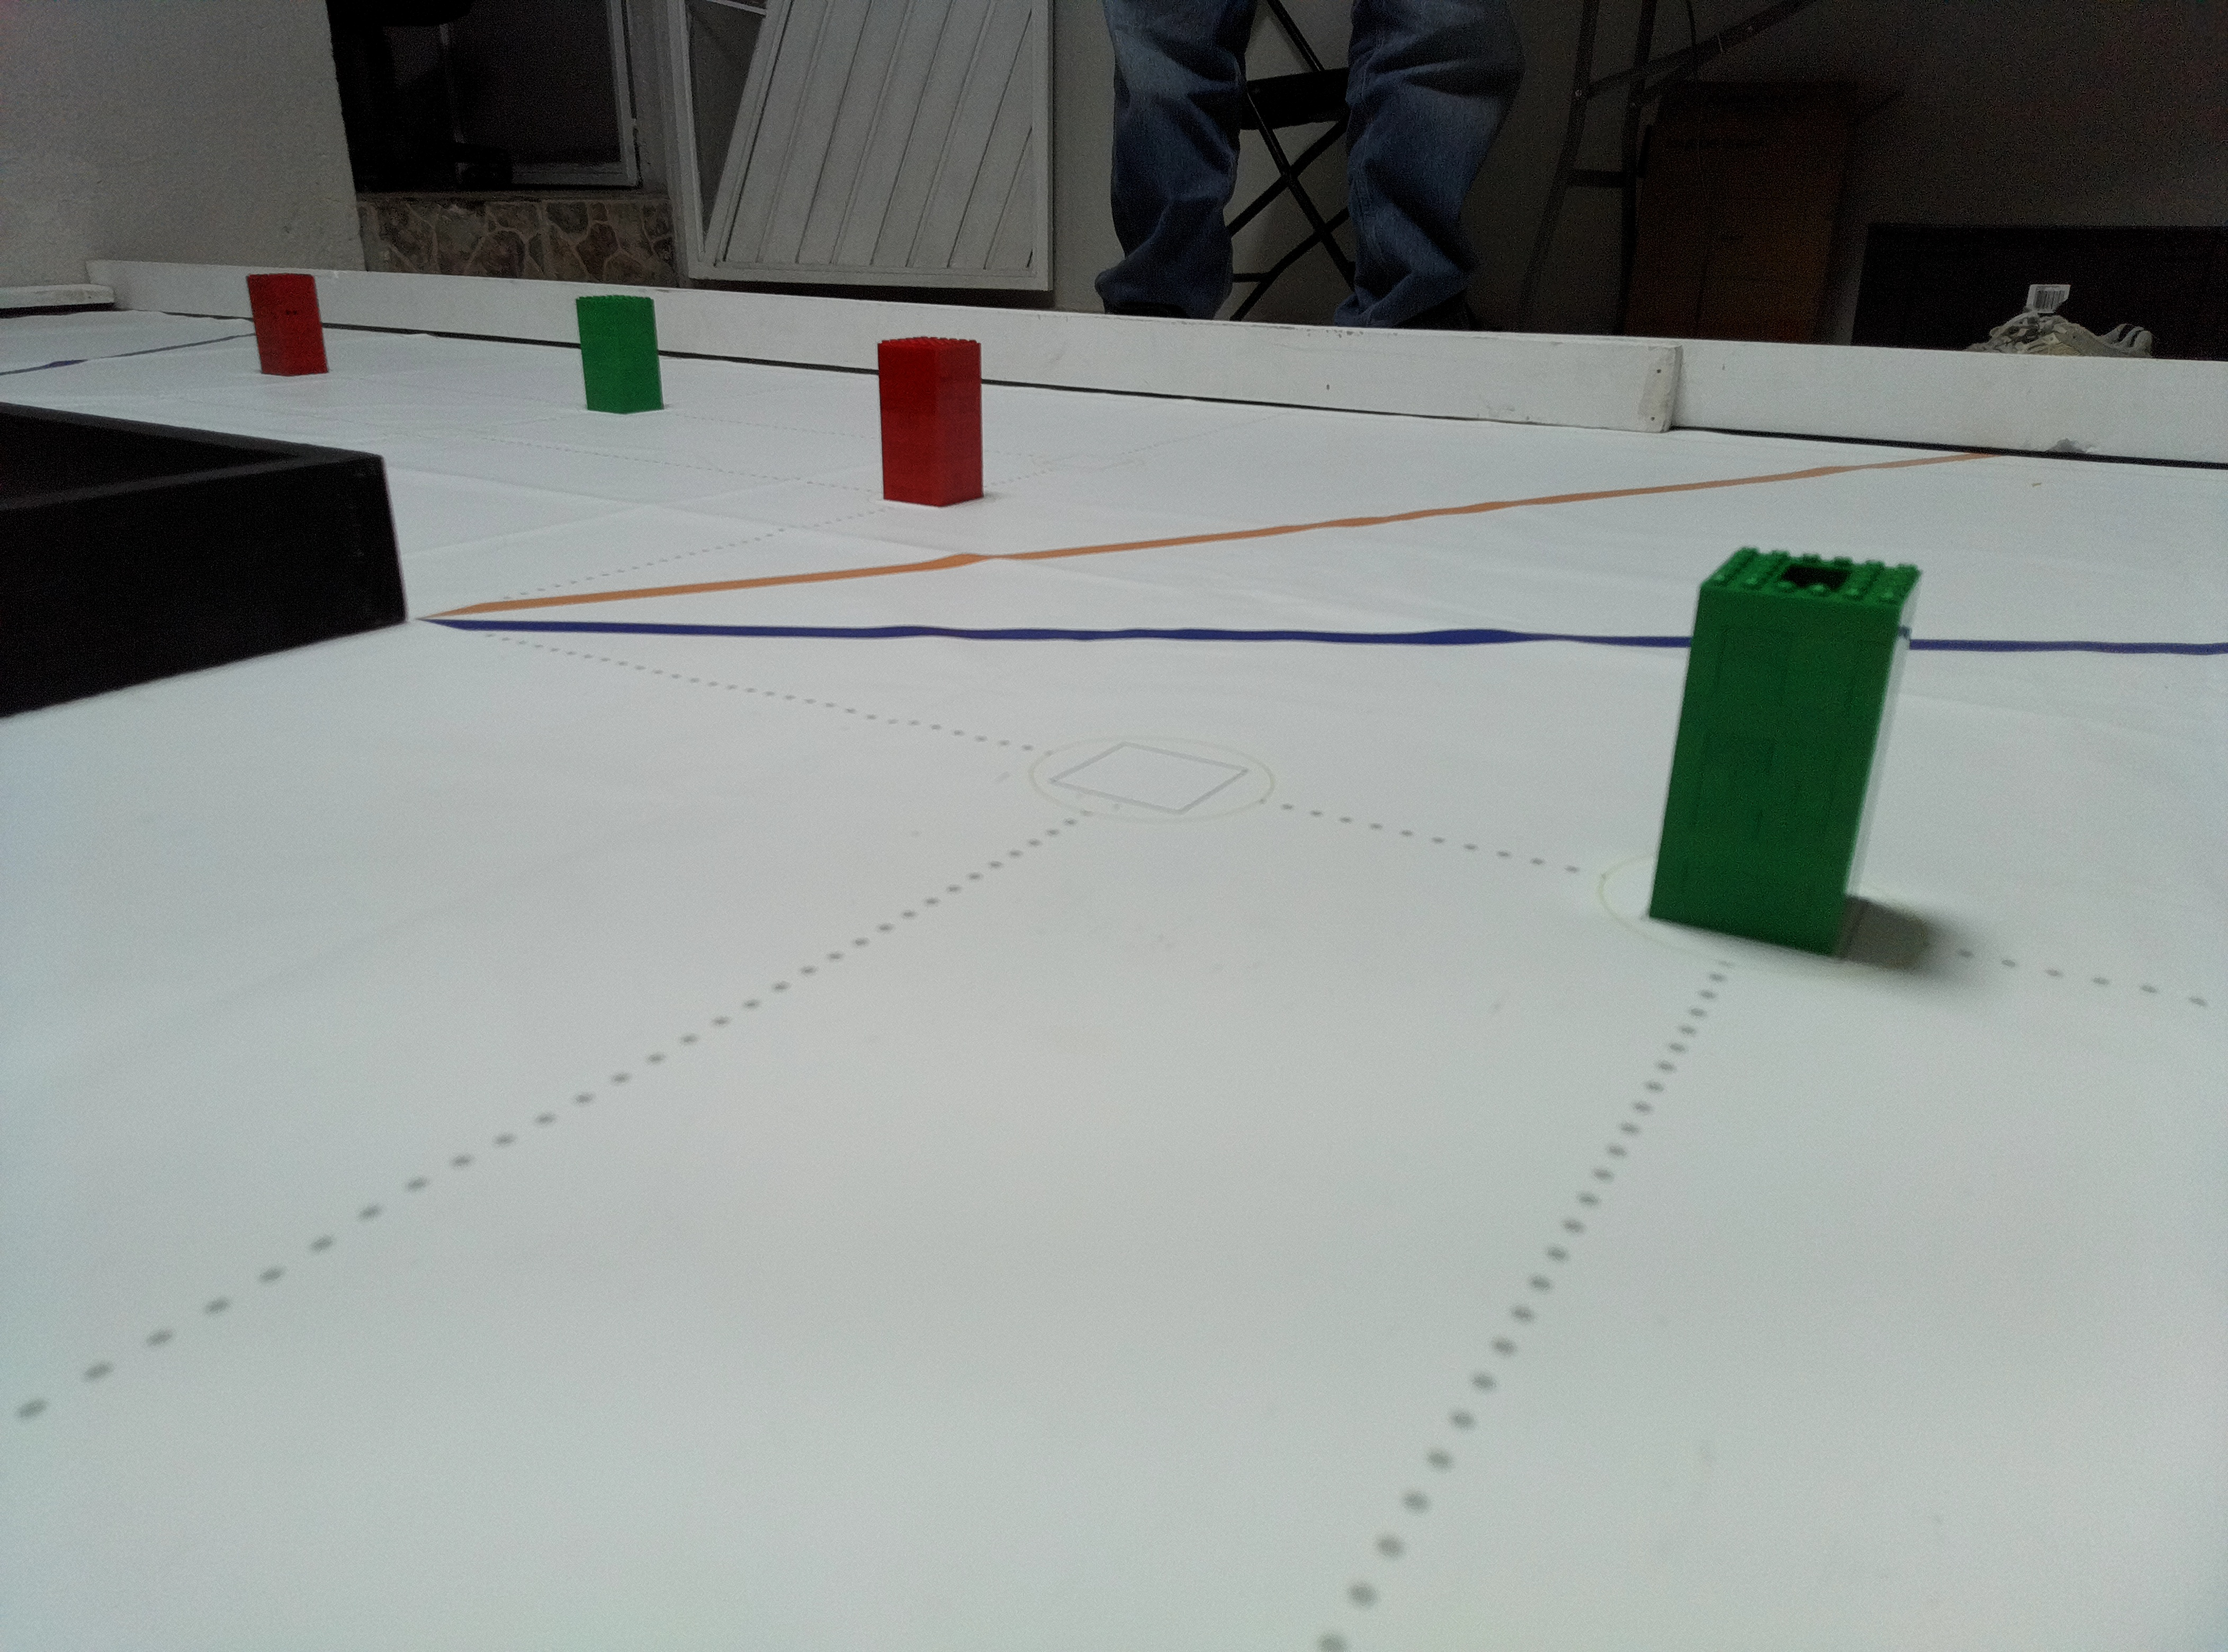greenbox: (1636, 540, 1921, 958), (576, 293, 663, 420)
redbox: (875, 326, 984, 505), (243, 278, 330, 378)
